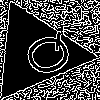Q: (11, 27, 78, 84)
